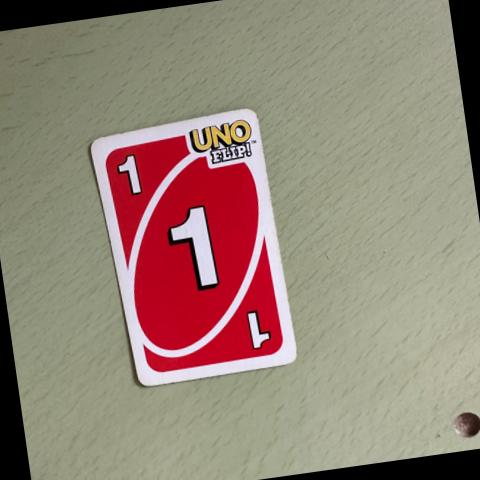7_red: (161, 196, 224, 298), (109, 150, 148, 197), (241, 305, 275, 352)
